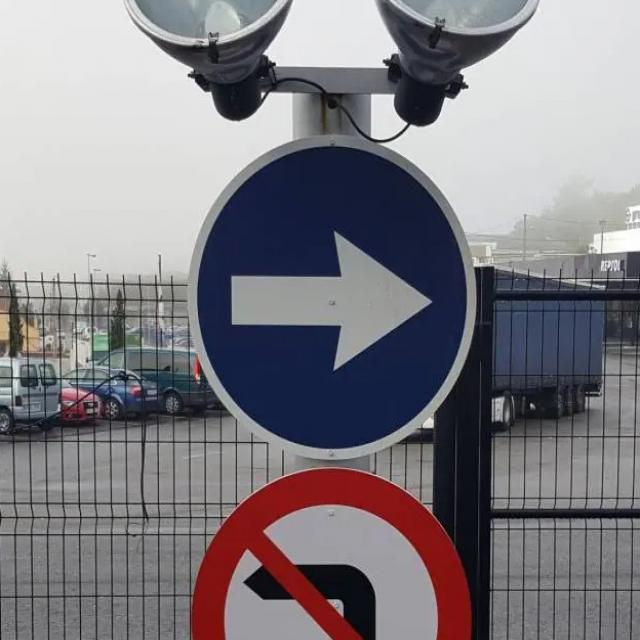Turn Right: (200, 142, 468, 442)
